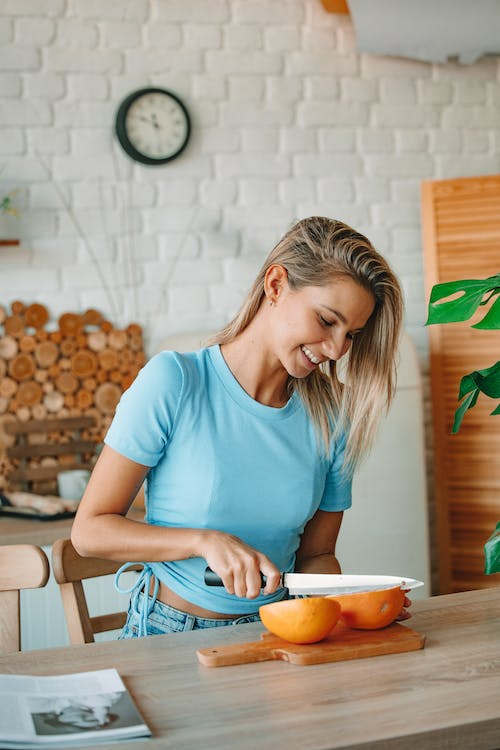knife: (204, 564, 426, 596)
